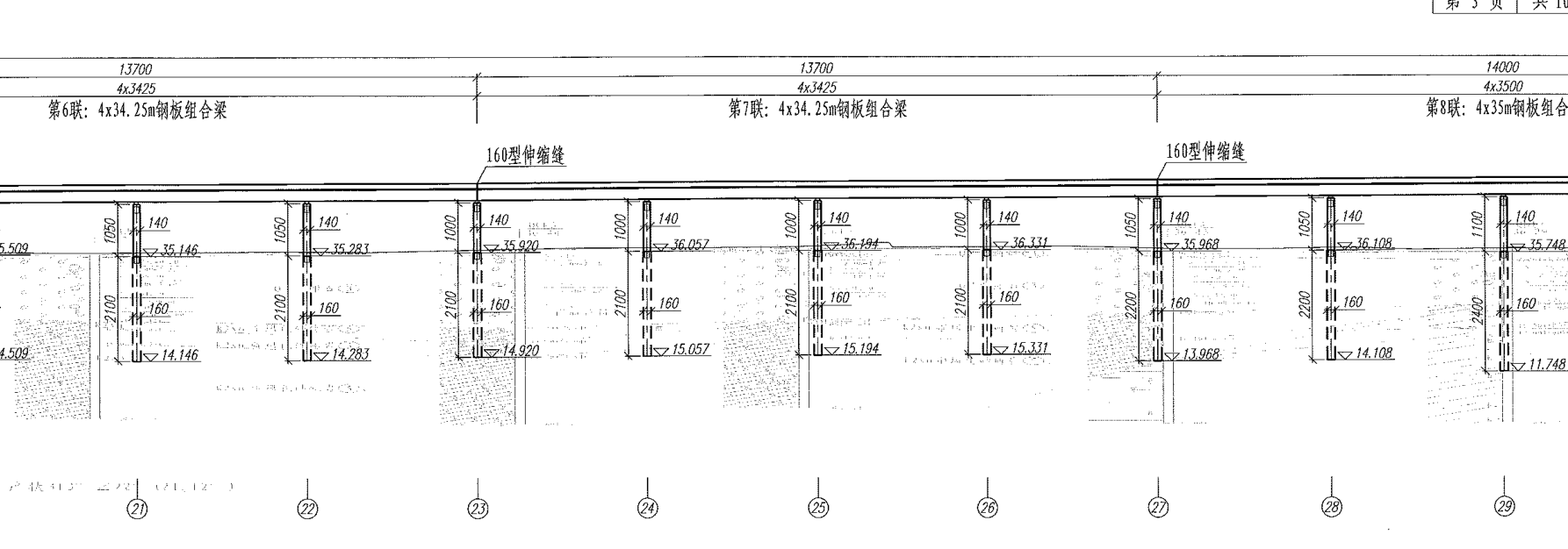B: (461, 59, 1176, 84)
C: (786, 187, 897, 521), (278, 188, 387, 523), (960, 187, 1068, 521), (1309, 186, 1413, 521), (625, 189, 729, 523), (1133, 187, 1236, 520), (452, 189, 555, 521), (115, 189, 216, 520), (1479, 188, 1567, 526)
